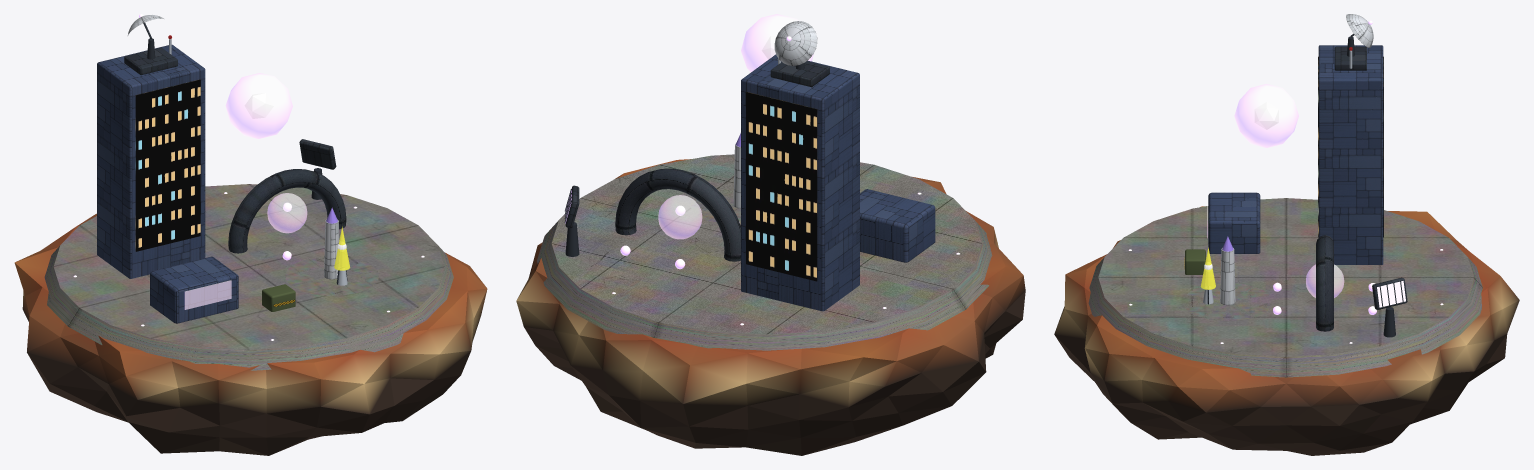
Rendered from research.glb.
The picture shows the model from 3 angles, left to right: view 1: azimuth 30°, elevation 25°; view 2: azimuth 150°, elevation 25°; view 3: azimuth 270°, elevation 25°; orthographic projection. The views are drawn at different scales.
Parts seen in each view (by area): view 1: object 2, object 1, object 13, object 14, object 32, object 36, object 21, object 24, object 23, object 16, object 33, anim:rot (+3 smaller); view 2: object 1, object 2, object 13, object 15, object 32, object 21, object 36, object 23, anim:rot, object 16; view 3: object 2, object 1, object 13, object 32, object 36, object 24, object 21, anim:rot (×2), object 25, object 16, object 38, object 23 (+1 smaller).
Part boxes in pixels (x1,y1,x2,y2): object 2: [44, 184, 453, 370]; object 1: [14, 213, 487, 455]; object 13: [97, 44, 205, 278]; object 14: [135, 79, 200, 251]; object 32: [150, 256, 238, 323]; object 36: [225, 73, 292, 138]; object 21: [228, 169, 346, 253]; object 24: [285, 257, 378, 295]; object 23: [267, 193, 307, 233]; object 16: [124, 47, 177, 75]; object 33: [184, 280, 231, 309]; anim:rot: [299, 139, 336, 169]; object 1: [516, 159, 1025, 455]; object 2: [537, 154, 992, 350]; object 13: [741, 54, 859, 311]; object 15: [746, 92, 817, 281]; object 32: [860, 189, 935, 262]; object 21: [615, 168, 740, 261]; object 36: [741, 14, 813, 72]; object 23: [658, 195, 702, 239]; anim:rot: [774, 21, 817, 65]; object 16: [770, 61, 829, 87]; object 2: [1088, 198, 1482, 377]; object 1: [1054, 206, 1519, 455]; object 13: [1318, 45, 1383, 264]; object 32: [1208, 192, 1260, 253]; object 36: [1234, 84, 1298, 147]; object 24: [1183, 283, 1272, 320]; object 21: [1316, 235, 1333, 331]; anim:rot (×2): [1346, 14, 1407, 309]; object 25: [1220, 248, 1235, 305]; object 16: [1334, 46, 1366, 70]; object 38: [1185, 249, 1205, 274]; object 23: [1306, 264, 1344, 297].
Bounding box in the file's own units: 6.89 × 5.94 × 7.19.
Materials: 18 (7 with a texture image).
